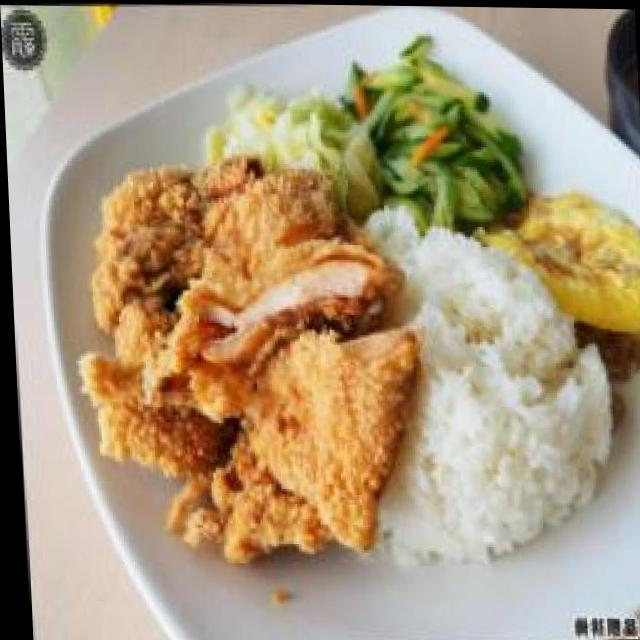rice: (419, 268, 563, 524)
